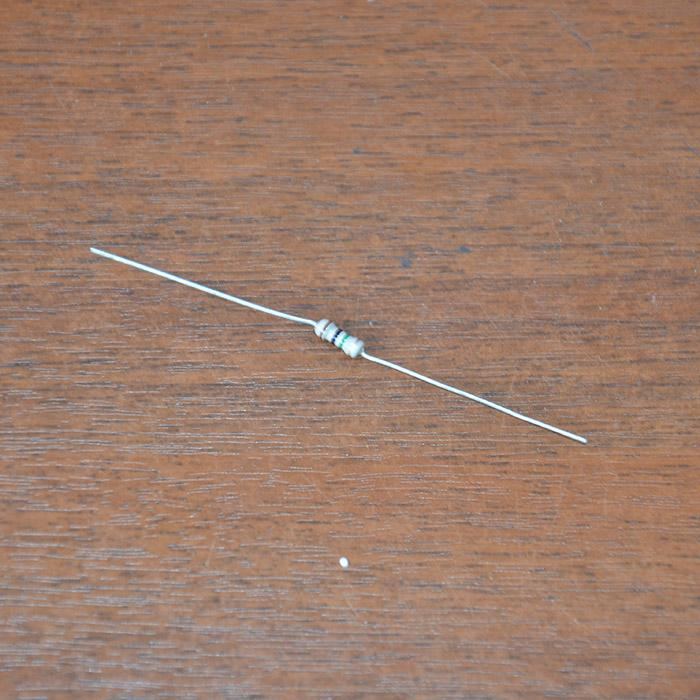resistor: (314, 318, 365, 360)
